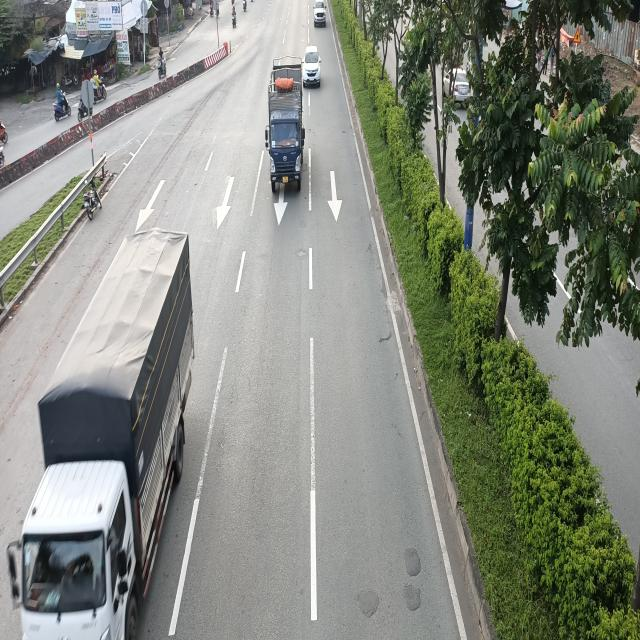car: (302, 47, 320, 88), (314, 0, 327, 27)
truck: (12, 229, 195, 640), (264, 62, 305, 195)
